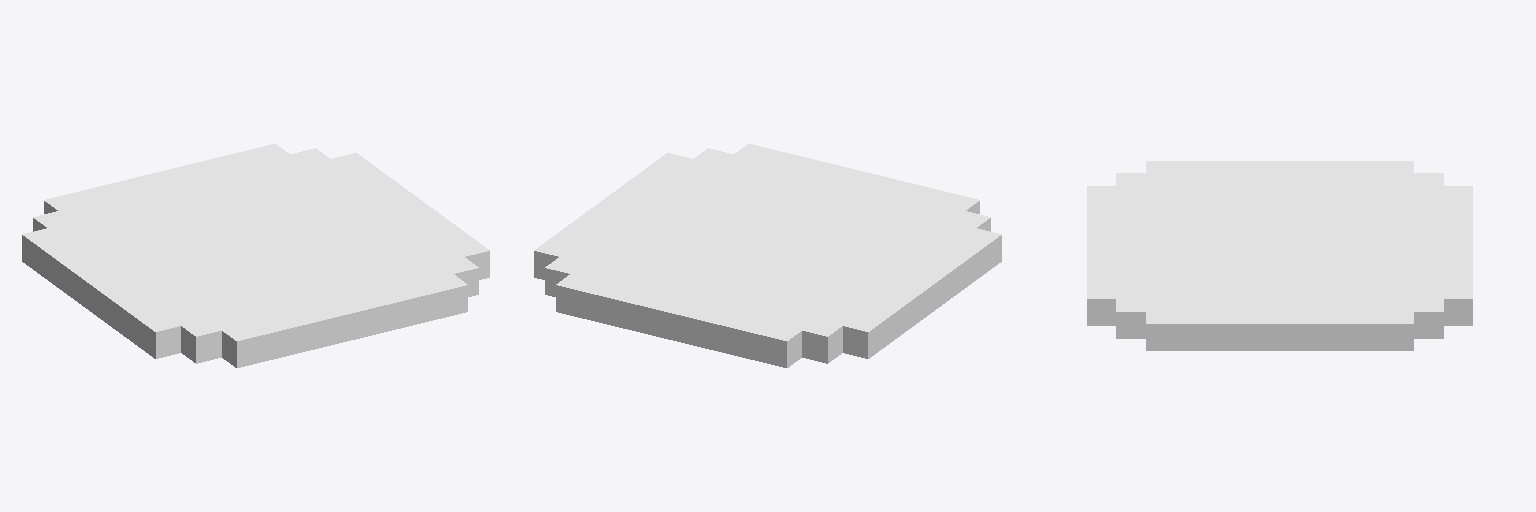
File: ButtonHit.obj
The picture shows the model from 3 angles: view 1: azimuth 30°, elevation 25°; view 2: azimuth 150°, elevation 25°; view 3: azimuth 270°, elevation 25°; orthographic projection.
Visible parts, largest first — view 1: object 1; view 2: object 1; view 3: object 1.
Boxes of the visible parts, x1,y1,x2,y2 form: object 1: [22, 144, 489, 367]; object 1: [534, 144, 1001, 367]; object 1: [1087, 161, 1472, 350].
Size of the model in its own units: 1.3 by 0.1 by 1.3.